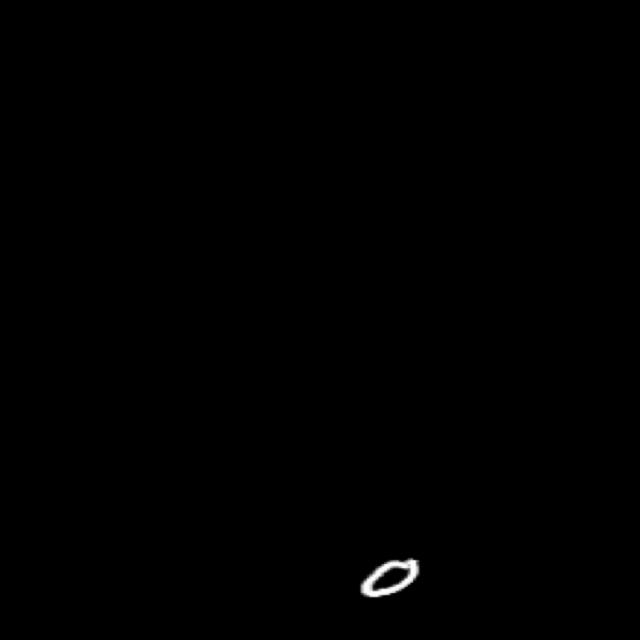zero -0-: (344, 547, 434, 615)
